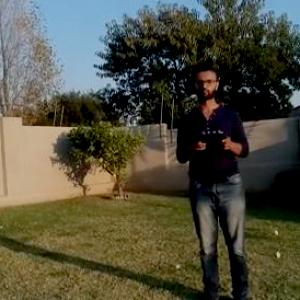follow: (171, 58, 264, 299)
